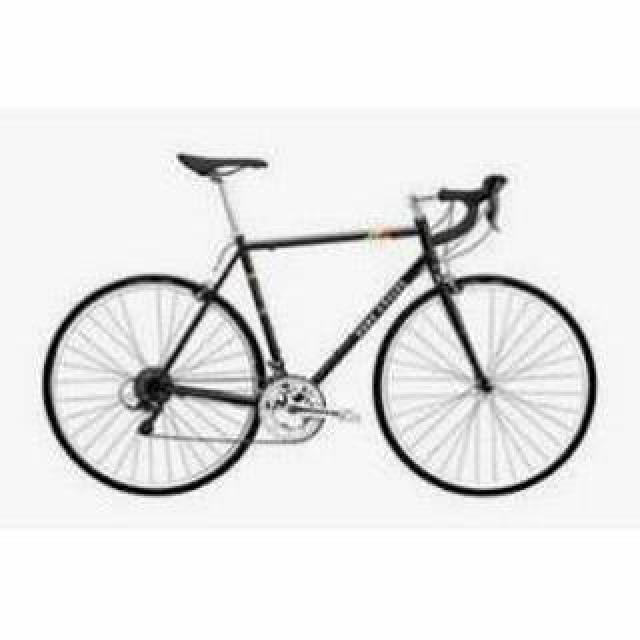Person: (40, 153, 598, 499)
